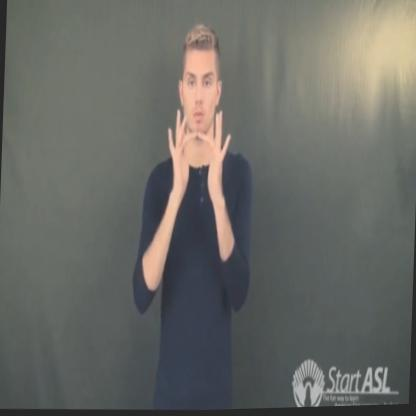Internet: (154, 92, 237, 207)
